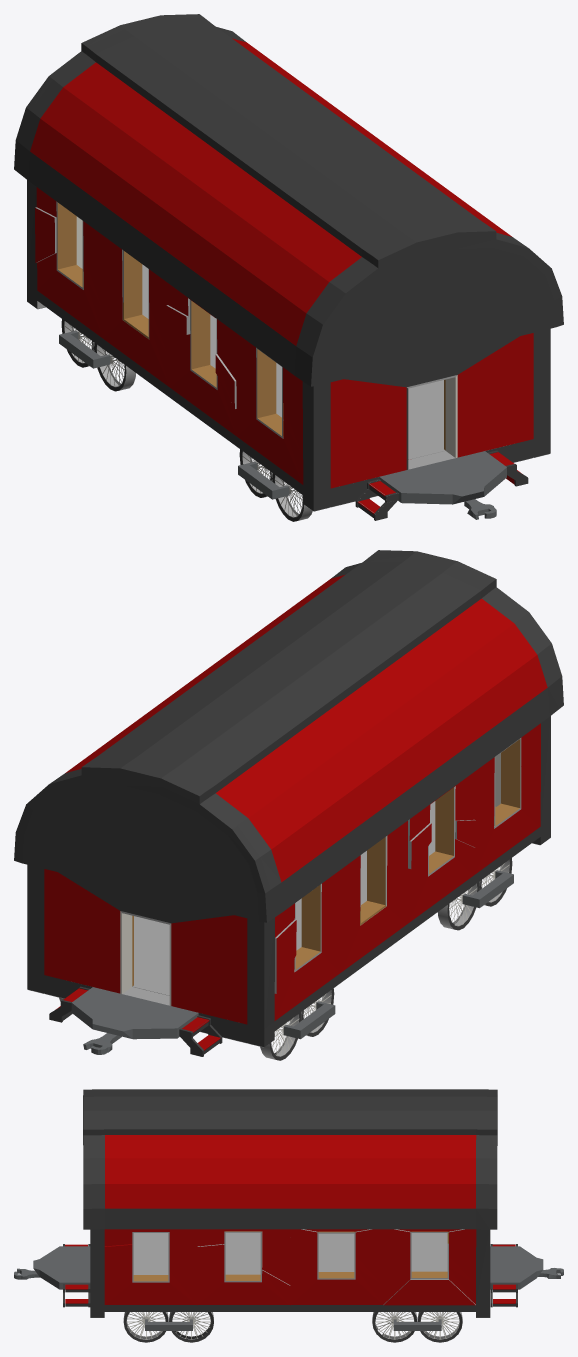
File: rich-car2.fbx
3 renders of one model, top to bottom at view 1: azimuth 30°, elevation 25°; view 2: azimuth 150°, elevation 25°; view 3: azimuth 270°, elevation 25°, orthographic. The views are drawn at different scales.
Parts seen in each view (by area): view 1: Car, Floor, Stairs1, Wheel5, Wheel_Connector3, Wheel_Connector, Wheel6; view 2: Car, Floor, Stairs3, Wheel7, Wheel_Connector3, Wheel_Connector, Wheel4; view 3: Car, Floor, Wheel3, Wheel2, Wheel, Wheel1, Stairs2, Stairs4, Wheel_Connector2, Wheel_Connector1.
Boxes of the visible parts, <box> form: Car: <box>14,14,563,511</box>; Floor: <box>142,266,443,457</box>; Stairs1: <box>355,479,398,520</box>; Wheel5: <box>94,343,135,391</box>; Wheel_Connector3: <box>59,330,110,368</box>; Wheel_Connector: <box>238,461,289,499</box>; Wheel6: <box>272,473,312,521</box>; Car: <box>14,550,563,1047</box>; Floor: <box>134,802,435,993</box>; Stairs3: <box>179,1015,222,1056</box>; Wheel7: <box>437,882,479,930</box>; Wheel_Connector3: <box>283,1001,335,1039</box>; Wheel_Connector: <box>462,870,513,908</box>; Wheel4: <box>260,1012,301,1060</box>; Car: <box>33,1089,543,1317</box>; Floor: <box>133,1232,447,1274</box>; Wheel3: <box>417,1312,462,1342</box>; Wheel2: <box>372,1312,417,1342</box>; Wheel: <box>123,1312,168,1342</box>; Wheel1: <box>169,1312,213,1342</box>; Stairs2: <box>490,1284,517,1307</box>; Stairs4: <box>63,1284,90,1307</box>; Wheel_Connector2: <box>393,1319,441,1330</box>; Wheel_Connector1: <box>145,1319,192,1330</box>.
Size of the model in its own units: 7.17 by 7.82 by 19.25.
